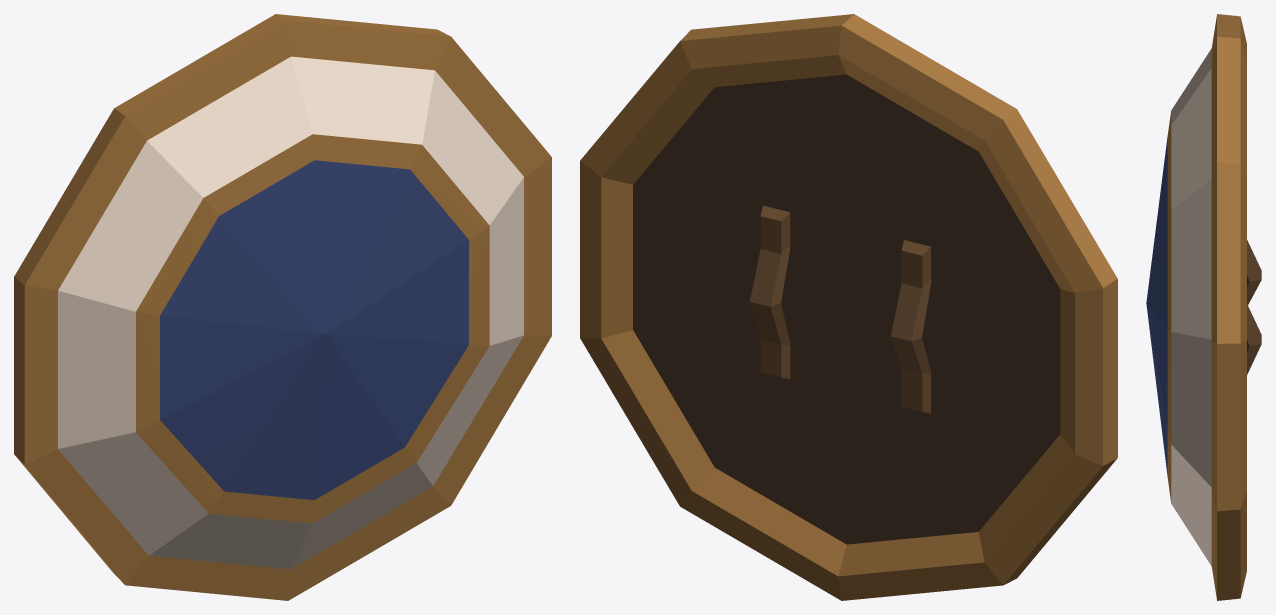
The model's file is empire-shield-greek-empire.glb.
3 views of the same model, side by side, from view 1: azimuth 30°, elevation 25°; view 2: azimuth 150°, elevation 25°; view 3: azimuth 270°, elevation 25° (orthographic). The views are drawn at different scales.
Parts seen in each view (by area): view 1: SM_Shield_Ancient_Greek_Empire; view 2: SM_Shield_Ancient_Greek_Empire; view 3: SM_Shield_Ancient_Greek_Empire.
Boxes of the visible parts, bbox=[...] form: SM_Shield_Ancient_Greek_Empire: bbox=[14, 14, 551, 600]; SM_Shield_Ancient_Greek_Empire: bbox=[580, 14, 1117, 600]; SM_Shield_Ancient_Greek_Empire: bbox=[1146, 14, 1261, 600].
Bounding box in the file's own units: 0.9272 × 0.9749 × 0.188.
